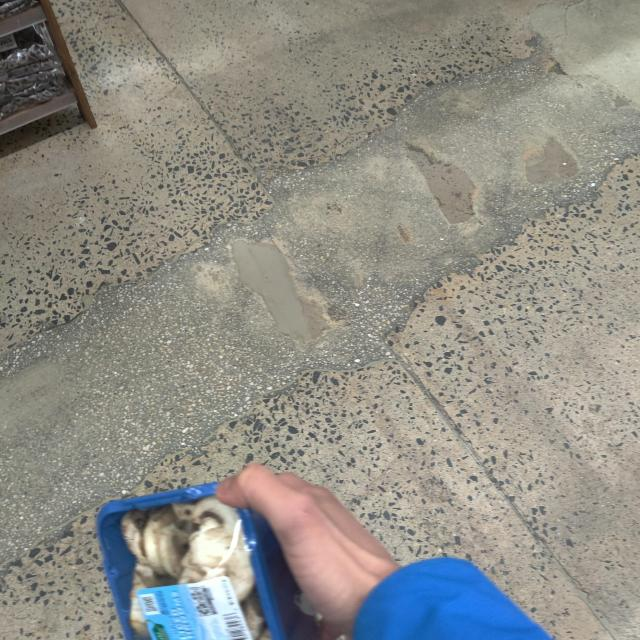Meat: (94, 482, 290, 640)
